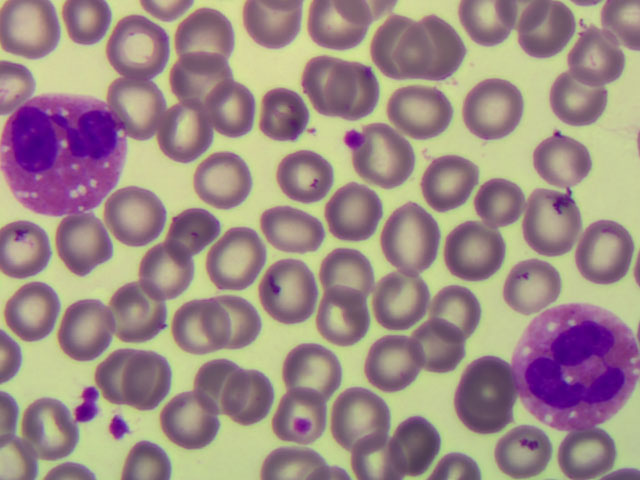Platelets: (73, 386, 100, 422), (109, 414, 126, 438), (343, 132, 362, 145)
RBC: (555, 419, 612, 480), (385, 419, 442, 480), (348, 419, 405, 480), (111, 16, 168, 76), (107, 75, 164, 135), (151, 100, 208, 160), (167, 49, 224, 109), (176, 9, 233, 69), (201, 75, 258, 135), (254, 82, 311, 142), (286, 51, 343, 111), (323, 59, 380, 119), (358, 19, 415, 79), (405, 16, 462, 76), (304, 2, 361, 62), (387, 80, 444, 140), (463, 77, 520, 137), (550, 70, 607, 130), (570, 30, 627, 90), (516, 2, 573, 62), (535, 132, 592, 192), (525, 190, 582, 250), (583, 226, 640, 286), (498, 249, 555, 309), (453, 222, 510, 282), (471, 175, 528, 235), (430, 145, 487, 205), (378, 204, 435, 264), (367, 132, 424, 192), (325, 189, 382, 249), (269, 203, 326, 263), (276, 146, 333, 206), (195, 152, 252, 212), (169, 197, 226, 257), (140, 244, 197, 304), (109, 179, 166, 239), (58, 213, 115, 273), (6, 278, 63, 338), (52, 302, 109, 362), (108, 283, 165, 343), (174, 293, 231, 353), (207, 290, 264, 350), (256, 256, 313, 316), (305, 285, 362, 345), (325, 237, 382, 297), (369, 266, 426, 326), (365, 326, 422, 386), (410, 318, 467, 378), (432, 279, 489, 339), (451, 351, 508, 411), (490, 419, 547, 479), (329, 389, 386, 449), (269, 388, 326, 448), (286, 336, 343, 396), (224, 368, 281, 428), (196, 353, 253, 413), (159, 391, 216, 451), (130, 352, 187, 412), (98, 342, 155, 402), (21, 401, 78, 461), (55, 1, 112, 60), (3, 1, 60, 60), (242, 1, 299, 60), (470, 1, 527, 60), (1, 221, 57, 281)
WBC: (5, 91, 126, 213)
